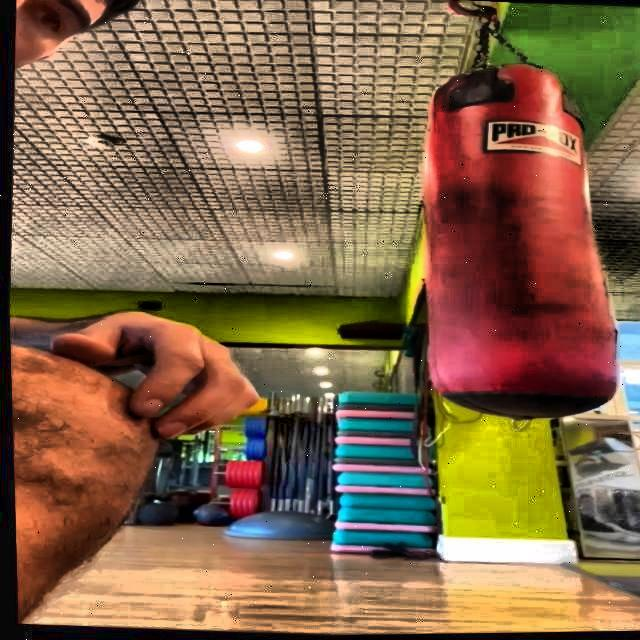boxing-bag: (410, 1, 634, 429)
